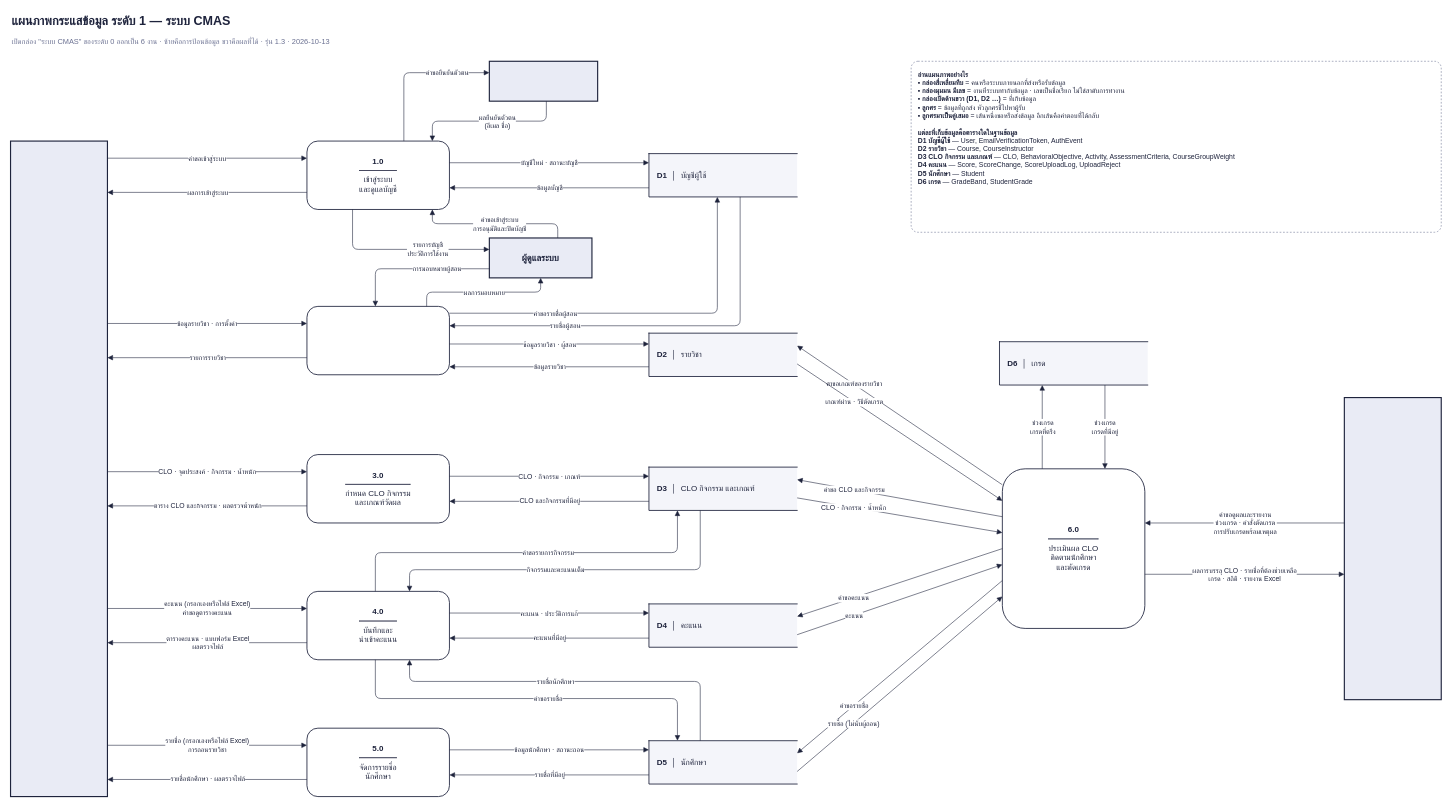
The diagram is 1451 pixels wide and 807 high, and some of its shapes have lost their labels. The centre of each missing label's shape, as x and y in pixels:
"2.0 จัดการรายวิชา และผู้สอน" goes at point (378, 340).
"Google บริการยืนยันตัวตน" goes at point (543, 80).
"ผู้สอน" goes at point (59, 468).
"ผู้สอน (คนเดียวกับด้านซ้าย)" goes at point (1392, 548).
